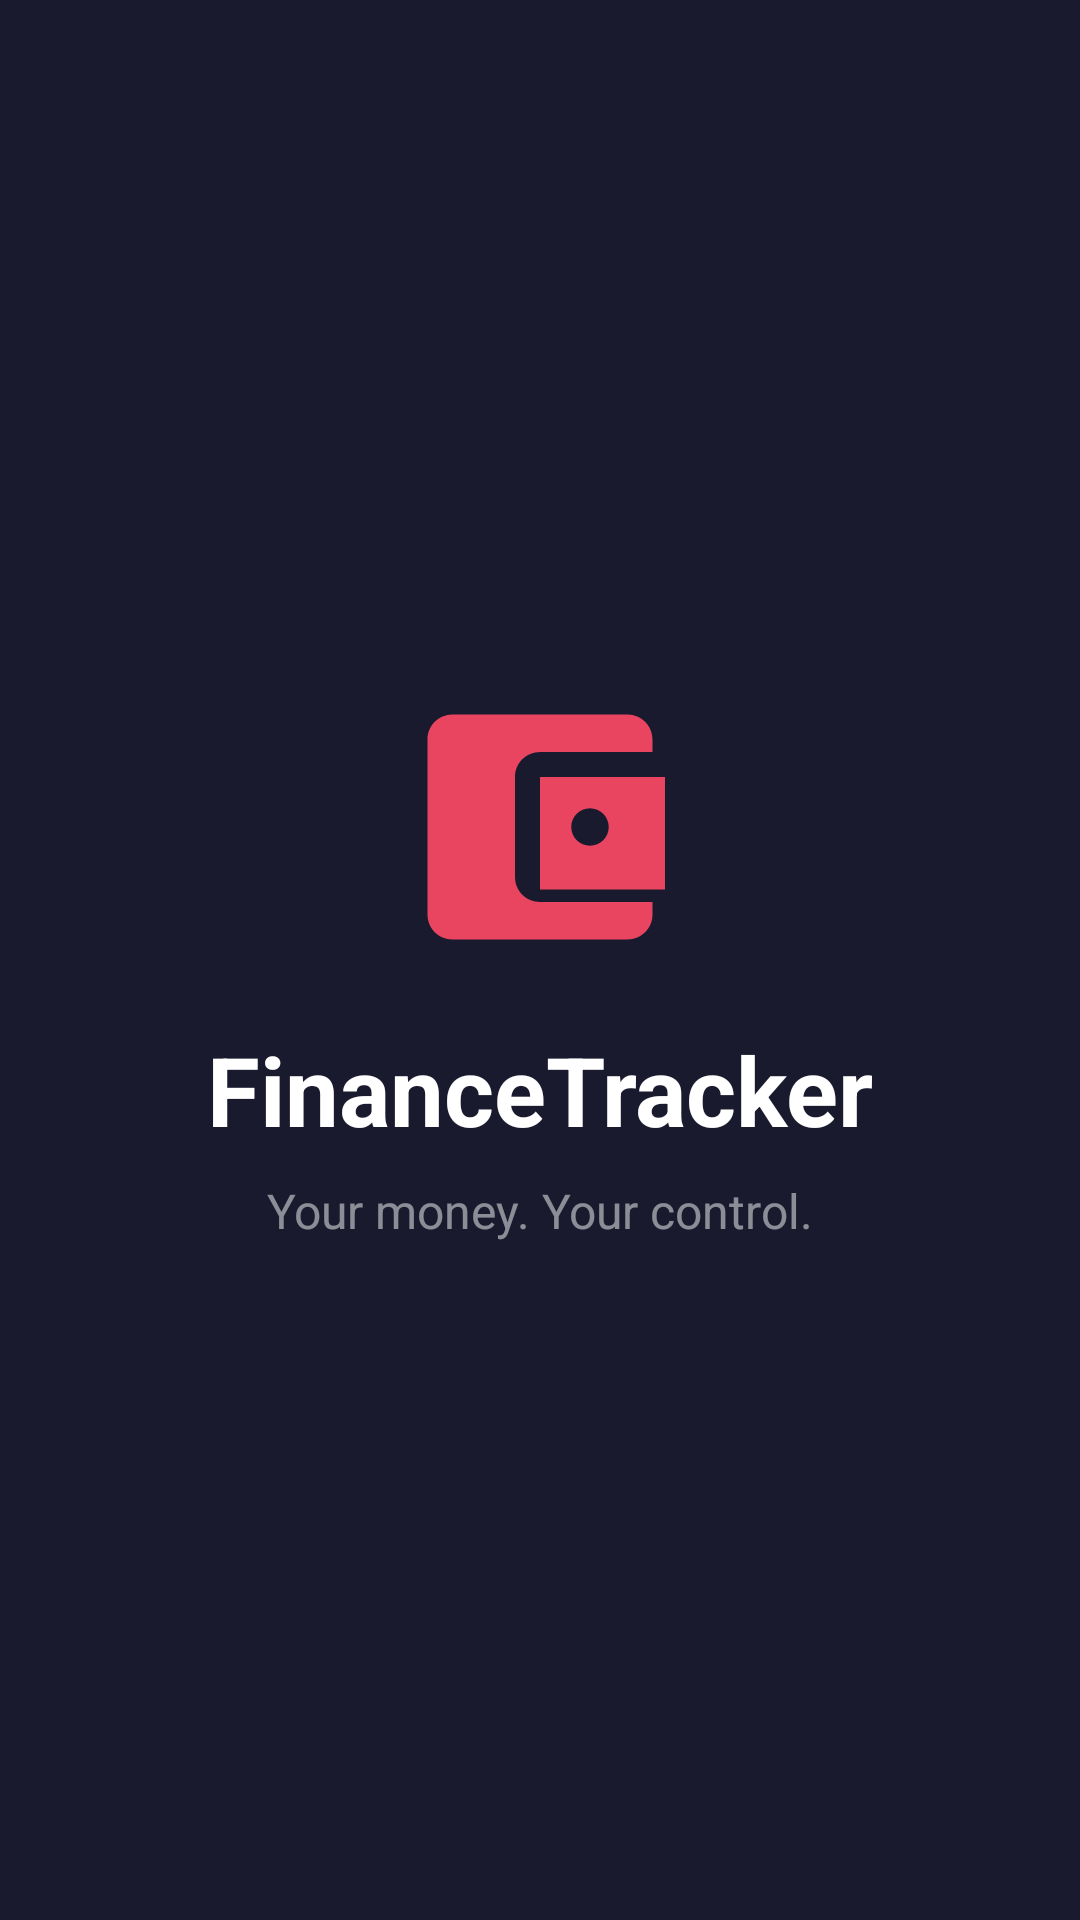

Named icons in this screenshot (1080 × 1920) and their bounding boxes, [x1,y1,x2,y2]:
wallet: [427,714,665,940]
